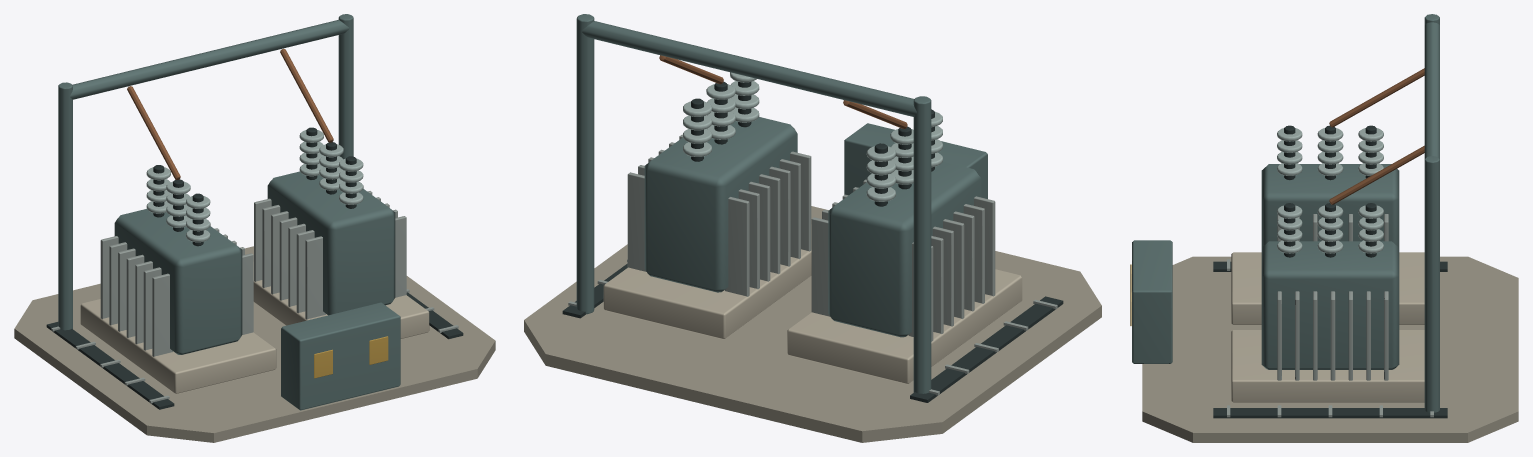
File: RelaySubstation.glb
The picture shows the model from 3 angles, left to right: view 1: azimuth 30°, elevation 25°; view 2: azimuth 150°, elevation 25°; view 3: azimuth 270°, elevation 25°; orthographic projection. The views are drawn at different scales.
Parts seen in each view (by area): view 1: Service foundation.002, Transformer, Transformer.001, Switch cabinet, Transformer plinth, Gantry crossbar, Gantry column, Transformer plinth.001, Gantry column.001, Drainage slot.004, Radiator fin, Radiator fin.014 (+19 smaller); view 2: Service foundation.002, Transformer.001, Transformer, Transformer plinth, Transformer plinth.001, Gantry crossbar, Gantry column, Gantry column.001, Switch cabinet, Drainage slot.004, Radiator fin.020, Radiator fin.027 (+13 smaller); view 3: Service foundation.002, Transformer.001, Transformer plinth.001, Transformer, Switch cabinet, Transformer plinth, Gantry column.001, Drainage slot.005, Gantry crossbar, Busbar, Busbar.001, Radiator fin.024 (+6 smaller).
Boxes of the visible parts, x1,y1,x2,y2 form: Service foundation.002: (14, 246, 495, 442); Transformer: (114, 209, 242, 354); Transformer.001: (267, 171, 395, 315); Switch cabinet: (281, 302, 400, 410); Transformer plinth: (80, 299, 276, 393); Gantry crossbar: (70, 19, 348, 99); Gantry column: (58, 82, 72, 330); Transformer plinth.001: (253, 262, 429, 339); Gantry column.001: (338, 14, 353, 159); Drainage slot.004: (46, 322, 174, 409); Radiator fin: (152, 273, 172, 356); Radiator fin.014: (305, 236, 325, 319); Service foundation.002: (524, 206, 1101, 442); Transformer.001: (644, 117, 797, 292); Transformer: (828, 161, 981, 337); Transformer plinth: (787, 269, 1022, 384); Transformer plinth.001: (603, 224, 811, 339); Gantry crossbar: (582, 21, 916, 116); Gantry column: (913, 96, 931, 393); Gantry column.001: (576, 14, 594, 314); Switch cabinet: (844, 123, 987, 198); Drainage slot.004: (910, 296, 1063, 402); Radiator fin.020: (724, 197, 749, 296); Radiator fin.027: (627, 172, 646, 271); Service foundation.002: (1142, 256, 1518, 442); Transformer.001: (1261, 241, 1399, 369); Transformer plinth.001: (1231, 330, 1424, 402); Transformer: (1261, 164, 1399, 247); Switch cabinet: (1132, 240, 1172, 363); Transformer plinth: (1231, 252, 1424, 325); Gantry column.001: (1424, 156, 1439, 412); Drainage slot.005: (1213, 408, 1447, 418); Gantry crossbar: (1424, 22, 1439, 158); Busbar: (1329, 68, 1424, 127); Busbar.001: (1329, 145, 1424, 204); Radiator fin.024: (1330, 291, 1335, 380).
Size of the model in its own units: 8.2 by 5.79 by 7.64.
